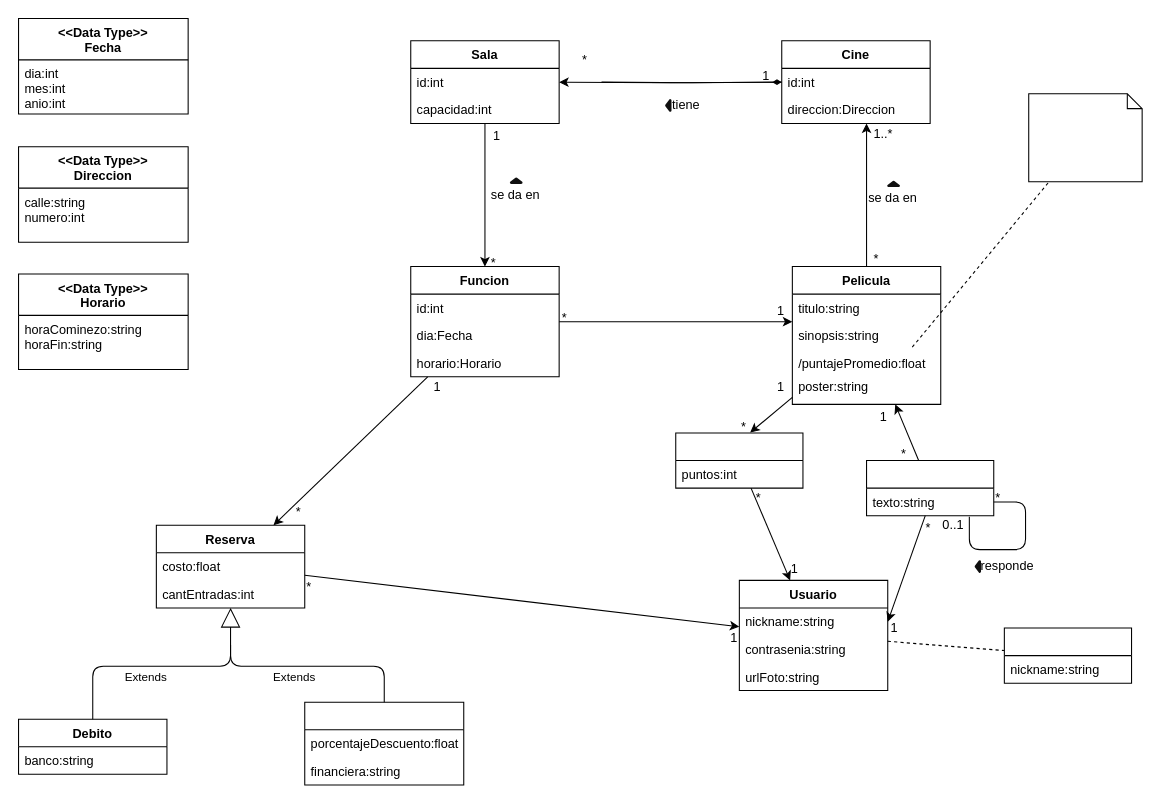
The diagram is 1161 pixels wide and 807 high, and some of its shapes have lost their labels. Here are the shapes that lost their labels. From the top down, the box of each, then its label:
(1028, 93, 1142, 182): puntaje promedio se calcula a partir de los puntajes de la pelicula
(675, 432, 803, 488): Puntaje
(865, 460, 994, 516): Comentario
(1003, 627, 1132, 683): Sesion
(304, 701, 464, 785): Credito
